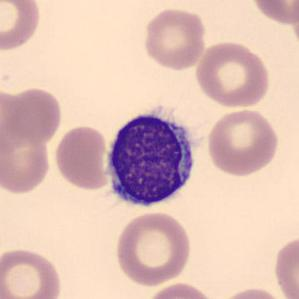Lymphocyte: (99, 101, 201, 213)
RBC: (112, 209, 194, 288), (192, 38, 272, 110), (204, 107, 282, 178), (0, 105, 55, 197), (141, 6, 208, 72), (52, 123, 112, 191), (1, 85, 64, 147), (0, 245, 65, 299), (0, 0, 43, 53), (270, 232, 299, 299), (144, 281, 219, 299), (248, 0, 299, 26), (213, 285, 290, 299)
